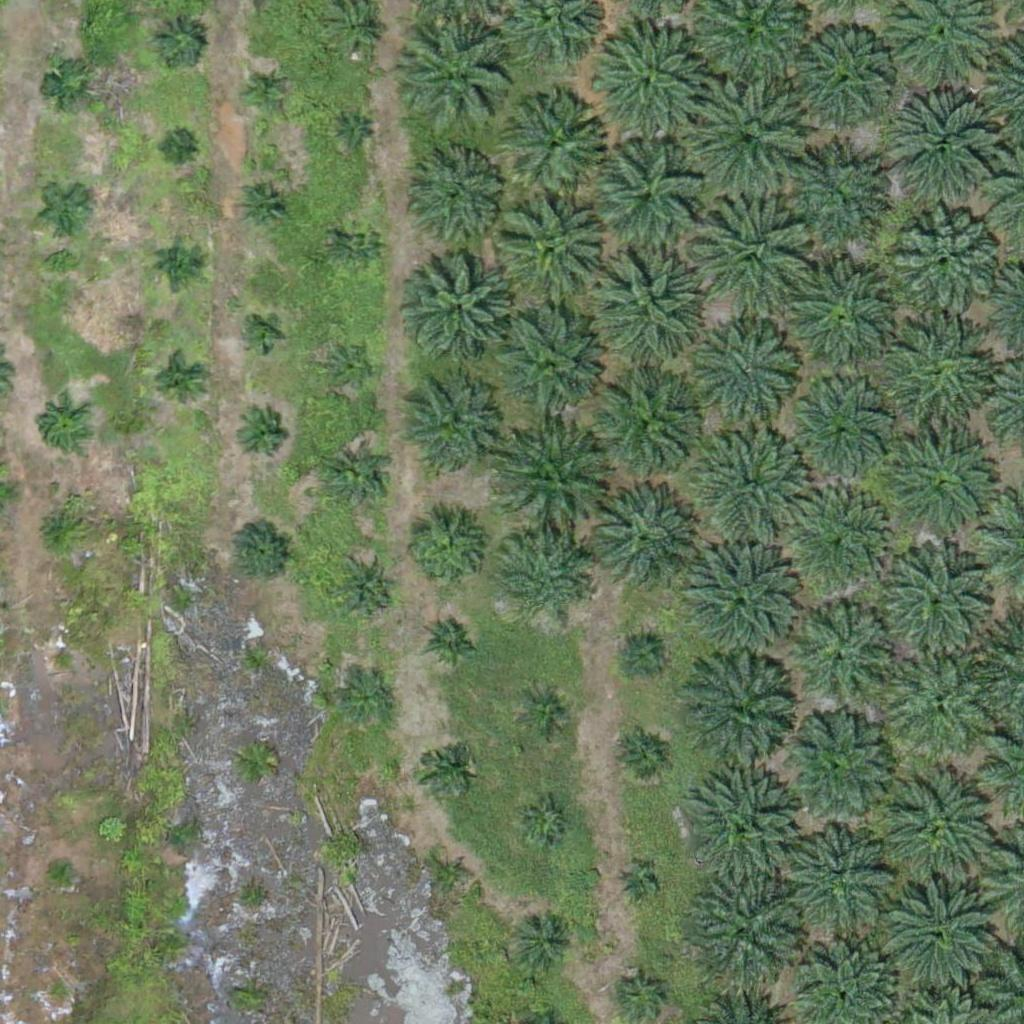Kelapa_Sawit: (686, 74, 811, 200), (874, 315, 999, 441), (884, 425, 1009, 551), (583, 242, 708, 368), (690, 190, 815, 316), (869, 533, 994, 659), (698, 427, 811, 541), (588, 22, 701, 135), (587, 139, 700, 252), (584, 483, 697, 596), (688, 772, 801, 885), (689, 874, 802, 987), (776, 483, 889, 596), (885, 644, 998, 757), (883, 93, 995, 207), (590, 371, 702, 485), (498, 427, 610, 541), (494, 311, 606, 425), (497, 194, 609, 308), (406, 20, 518, 133), (891, 206, 1003, 319), (786, 260, 898, 373), (686, 549, 798, 662), (686, 661, 798, 774), (783, 710, 895, 823), (790, 595, 902, 708), (888, 768, 1000, 881), (884, 875, 996, 988), (505, 92, 605, 193), (789, 388, 889, 489), (701, 328, 801, 429), (795, 827, 895, 928), (792, 29, 892, 129), (777, 152, 877, 252), (410, 258, 510, 358), (398, 384, 498, 484), (400, 507, 487, 595), (415, 154, 502, 242), (500, 534, 587, 622), (335, 559, 398, 622), (230, 518, 293, 581), (329, 449, 391, 512), (514, 913, 576, 976), (423, 611, 485, 674), (152, 355, 202, 406), (236, 409, 286, 460), (329, 3, 379, 54), (152, 16, 202, 67), (616, 970, 666, 1021), (32, 503, 82, 554), (342, 678, 392, 728), (418, 742, 468, 792), (334, 221, 384, 271), (154, 238, 204, 288), (42, 183, 92, 233), (37, 401, 87, 451), (44, 63, 94, 113), (520, 798, 570, 848), (521, 689, 571, 739), (240, 66, 290, 116), (323, 340, 373, 390), (239, 180, 289, 230), (618, 630, 668, 680), (619, 733, 669, 783), (243, 315, 281, 353), (435, 856, 473, 894), (618, 865, 656, 903), (341, 121, 366, 146), (164, 135, 189, 160), (50, 855, 75, 880), (47, 646, 72, 671)
